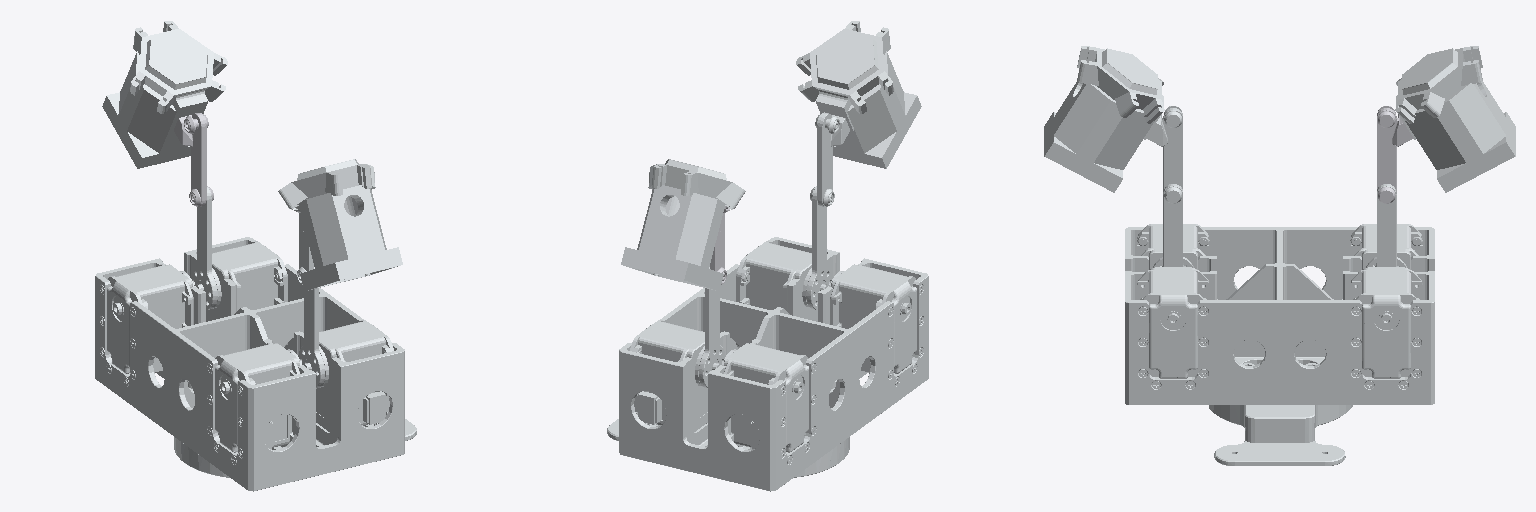
The robot description file, URDF, robot "djzq_urdf":
<?xml version="1.0" encoding="utf-8"?>
<!-- This URDF was automatically created by SolidWorks to URDF Exporter! Originally created by [author] ([email redacted]) 
     Commit Version: 1.6.0-1-g15f4949  Build Version: 1.6.7594.29634
     For more information, please see http://wiki.ros.org/sw_urdf_exporter -->
<robot
  name="djzq_urdf">
  <link
    name="base_link">
    <inertial>
      <origin
        xyz="-3.68665581099305E-06 9.14934312396757E-06 0.0286326536554218"
        rpy="0 0 0" />
      <mass
        value="0.836495323590987" />
      <inertia
        ixx="0.0010133968867622"
        ixy="-5.09925546040607E-08"
        ixz="1.18559207019959E-10"
        iyy="0.000547775576154519"
        iyz="-1.91971032593648E-10"
        izz="0.00118440225586729" />
    </inertial>
    <visual>
      <origin
        xyz="0 0 0"
        rpy="0 0 0" />
      <geometry>
        <mesh
          filename="meshes/base_link.STL" />
      </geometry>
      <material
        name="">
        <color
          rgba="0.898039215686275 0.917647058823529 0.929411764705882 1" />
      </material>
    </visual>
    <collision>
      <origin
        xyz="0 0 0"
        rpy="0 0 0" />
      <geometry>
        <mesh
          filename="meshes/base_link.STL" />
      </geometry>
    </collision>
  </link>
  <link
    name="Left_1_Link">
    <inertial>
      <origin
        xyz="0.0183900545364742 0 -0.00300000000000008"
        rpy="0 0 0" />
      <mass
        value="0.00570739398759208" />
      <inertia
        ixx="1.14086084728988E-07"
        ixy="-5.7985014611235E-22"
        ixz="-4.18483433557912E-23"
        iyy="1.94766973538297E-06"
        iyz="4.85536245073514E-24"
        izz="2.0532679152074E-06" />
    </inertial>
    <visual>
      <origin
        xyz="0 0 0"
        rpy="0 0 0" />
      <geometry>
        <mesh
          filename="meshes/Left_1_Link.STL" />
      </geometry>
      <material
        name="">
        <color
          rgba="0.898039215686275 0.917647058823529 0.929411764705882 1" />
      </material>
    </visual>
    <collision>
      <origin
        xyz="0 0 0"
        rpy="0 0 0" />
      <geometry>
        <mesh
          filename="meshes/Left_1_Link.STL" />
      </geometry>
    </collision>
  </link>
  <joint
    name="Left_1"
    type="revolute">
    <origin
      xyz="0.0014963 0.052806 0.047"
      rpy="0 -1.5708 0" />
    <parent
      link="base_link" />
    <child
      link="Left_1_Link" />
    <axis
      xyz="0 0 1" />
    <limit
      lower="-3.1416"
      upper="3.1416"
      effort="0"
      velocity="0" />
  </joint>
  <link
    name="Left_2_Link">
    <inertial>
      <origin
        xyz="0.00289936289635065 0.0248358974766605 1.84352088449656E-05"
        rpy="0 0 0" />
      <mass
        value="0.00657030740340087" />
      <inertia
        ixx="9.40189869841171E-07"
        ixy="-1.56093391665658E-07"
        ixz="-5.3466704799694E-14"
        iyy="1.77897148230384E-07"
        iyz="-2.43032697985935E-13"
        izz="1.03664567424634E-06" />
    </inertial>
    <visual>
      <origin
        xyz="0 0 0"
        rpy="0 0 0" />
      <geometry>
        <mesh
          filename="meshes/Left_2_Link.STL" />
      </geometry>
      <material
        name="">
        <color
          rgba="0.866666666666667 0.866666666666667 0.890196078431372 1" />
      </material>
    </visual>
    <collision>
      <origin
        xyz="0 0 0"
        rpy="0 0 0" />
      <geometry>
        <mesh
          filename="meshes/Left_2_Link.STL" />
      </geometry>
    </collision>
  </link>
  <joint
    name="Left_2"
    type="revolute">
    <origin
      xyz="0.05 0 0"
      rpy="3.1416 0 1.5708" />
    <parent
      link="Left_1_Link" />
    <child
      link="Left_2_Link" />
    <axis
      xyz="0 0 1" />
    <limit
      lower="-3.1416"
      upper="3.1416"
      effort="0"
      velocity="0" />
  </joint>
  <link
    name="L_TouchSensor_link">
    <inertial>
      <origin
        xyz="0.00202376595001497 -2.12603213266748E-07 -0.0264861041562324"
        rpy="0 0 0" />
      <mass
        value="0.124388957693126" />
      <inertia
        ixx="3.22977251728854E-05"
        ixy="-1.32183136100206E-14"
        ixz="8.25543029410062E-07"
        iyy="3.61487480611385E-05"
        iyz="-2.20679024877823E-13"
        izz="3.00247512991207E-05" />
    </inertial>
    <visual>
      <origin
        xyz="0 0 0"
        rpy="0 0 0" />
      <geometry>
        <mesh
          filename="meshes/L_TouchSensor_link.STL" />
      </geometry>
      <material
        name="">
        <color
          rgba="0.898039215686275 0.917647058823529 0.929411764705882 1" />
      </material>
    </visual>
    <collision>
      <origin
        xyz="0 0 0"
        rpy="0 0 0" />
      <geometry>
        <mesh
          filename="meshes/L_TouchSensor_link.STL" />
      </geometry>
    </collision>
  </link>
  <joint
    name="L_TouchSensor"
    type="fixed">
    <origin
      xyz="0.020167 0.067069 0"
      rpy="1.5708 0 -2.618" />
    <parent
      link="Left_2_Link" />
    <child
      link="L_TouchSensor_link" />
    <axis
      xyz="0 0 0" />
  </joint>
  <link
    name="Right_1_Link">
    <inertial>
      <origin
        xyz="0.0183900545364742 0 -0.00299999999999927"
        rpy="0 0 0" />
      <mass
        value="0.00570739398759207" />
      <inertia
        ixx="1.14086084728987E-07"
        ixy="-1.50374058416966E-22"
        ixz="8.29617591803157E-23"
        iyy="1.94766973538297E-06"
        iyz="-1.61022287973713E-24"
        izz="2.0532679152074E-06" />
    </inertial>
    <visual>
      <origin
        xyz="0 0 0"
        rpy="0 0 0" />
      <geometry>
        <mesh
          filename="meshes/Right_1_Link.STL" />
      </geometry>
      <material
        name="">
        <color
          rgba="0.898039215686275 0.917647058823529 0.929411764705882 1" />
      </material>
    </visual>
    <collision>
      <origin
        xyz="0 0 0"
        rpy="0 0 0" />
      <geometry>
        <mesh
          filename="meshes/Right_1_Link.STL" />
      </geometry>
    </collision>
  </link>
  <joint
    name="Right_1"
    type="revolute">
    <origin
      xyz="0.00149634448815223 -0.0527936076528706 0.047"
      rpy="0 -1.5707963267949 0" />
    <parent
      link="base_link" />
    <child
      link="Right_1_Link" />
    <axis
      xyz="0 0 1" />
    <limit
      lower="-3.1416"
      upper="3.1416"
      effort="0"
      velocity="0" />
  </joint>
  <link
    name="Right_2_Link">
    <inertial>
      <origin
        xyz="-0.00289936293533604 0.0248358974819604 1.83978616178828E-05"
        rpy="0 0 0" />
      <mass
        value="0.00657030740340088" />
      <inertia
        ixx="9.4018987076757E-07"
        ixy="1.56093395009947E-07"
        ixz="-5.34387801827842E-14"
        iyy="1.77897147303987E-07"
        iyz="2.43238111264308E-13"
        izz="1.03664567424634E-06" />
    </inertial>
    <visual>
      <origin
        xyz="0 0 0"
        rpy="0 0 0" />
      <geometry>
        <mesh
          filename="meshes/Right_2_Link.STL" />
      </geometry>
      <material
        name="">
        <color
          rgba="0.898039215686275 0.917647058823529 0.929411764705882 1" />
      </material>
    </visual>
    <collision>
      <origin
        xyz="0 0 0"
        rpy="0 0 0" />
      <geometry>
        <mesh
          filename="meshes/Right_2_Link.STL" />
      </geometry>
    </collision>
  </link>
  <joint
    name="Right_2"
    type="revolute">
    <origin
      xyz="0.0499999999999749 0 0"
      rpy="3.14159265358979 0 1.5707963267949" />
    <parent
      link="Right_1_Link" />
    <child
      link="Right_2_Link" />
    <axis
      xyz="0 0 1" />
    <limit
      lower="-3.1416"
      upper="3.1416"
      effort="0"
      velocity="0" />
  </joint>
  <link
    name="R_TouchSensor_link">
    <inertial>
      <origin
        xyz="-0.00202376595001491 2.12603213266098E-07 -0.0264861041562325"
        rpy="0 0 0" />
      <mass
        value="0.124388957693126" />
      <inertia
        ixx="3.22977251728855E-05"
        ixy="-1.3218319761948E-14"
        ixz="-8.25543029410075E-07"
        iyy="3.61487480611386E-05"
        iyz="2.20679027662246E-13"
        izz="3.00247512991208E-05" />
    </inertial>
    <visual>
      <origin
        xyz="0 0 0"
        rpy="0 0 0" />
      <geometry>
        <mesh
          filename="meshes/R_TouchSensor_link.STL" />
      </geometry>
      <material
        name="">
        <color
          rgba="0.898039215686275 0.917647058823529 0.929411764705882 1" />
      </material>
    </visual>
    <collision>
      <origin
        xyz="0 0 0"
        rpy="0 0 0" />
      <geometry>
        <mesh
          filename="meshes/R_TouchSensor_link.STL" />
      </geometry>
    </collision>
  </link>
  <joint
    name="R_TouchSensor"
    type="fixed">
    <origin
      xyz="-0.020167 0.067069 0"
      rpy="1.5708 0 2.618" />
    <parent
      link="Right_2_Link" />
    <child
      link="R_TouchSensor_link" />
    <axis
      xyz="0 0 0" />
  </joint>
  <link
    name="flange_link">
    <inertial>
      <origin
        xyz="-0.00114365097952029 0.0135377001943252 0.00701515049914394"
        rpy="0 0 0" />
      <mass
        value="0.173721942494818" />
      <inertia
        ixx="0.000156340931376305"
        ixy="-2.68963681691285E-06"
        ixz="-3.7653007847273E-07"
        iyy="5.56495647798096E-05"
        iyz="1.50032581410105E-06"
        izz="0.000204361122694957" />
    </inertial>
    <visual>
      <origin
        xyz="0 0 0"
        rpy="0 0 0" />
      <geometry>
        <mesh
          filename="meshes/flange_link.STL" />
      </geometry>
      <material
        name="">
        <color
          rgba="0.898039215686275 0.917647058823529 0.929411764705882 1" />
      </material>
    </visual>
    <collision>
      <origin
        xyz="0 0 0"
        rpy="0 0 0" />
      <geometry>
        <mesh
          filename="meshes/flange_link.STL" />
      </geometry>
    </collision>
  </link>
  <joint
    name="flange"
    type="fixed">
    <origin
      xyz="0 0 -0.017"
      rpy="0 0 -1.5708" />
    <parent
      link="base_link" />
    <child
      link="flange_link" />
    <axis
      xyz="0 0 0" />
  </joint>
</robot>

--- Facts derived from the render (not from the file) ---
Views: 3 orthographic renders of the robot side by side, from view 1: azimuth 30°, elevation 25°; view 2: azimuth 150°, elevation 25°; view 3: azimuth 270°, elevation 25°.
Model djzq_urdf with 8 links and 7 joints (4 revolute, 3 fixed), rooted at base_link, posed every joint at zero.
Links seen in each view (by area): view 1: base_link, L_TouchSensor_link, R_TouchSensor_link, Left_2_Link, Left_1_Link, Right_1_Link, flange_link, Right_2_Link; view 2: base_link, R_TouchSensor_link, L_TouchSensor_link, Right_2_Link, Right_1_Link, Left_1_Link, flange_link, Left_2_Link; view 3: base_link, L_TouchSensor_link, R_TouchSensor_link, flange_link, Left_2_Link, Right_2_Link, Left_1_Link, Right_1_Link.
Boxes of the visible links, <box> form: base_link: <box>95,237,404,491</box>; L_TouchSensor_link: <box>102,21,227,168</box>; R_TouchSensor_link: <box>278,159,402,290</box>; Left_2_Link: <box>174,113,213,206</box>; Left_1_Link: <box>191,187,217,309</box>; Right_1_Link: <box>298,267,324,388</box>; flange_link: <box>174,419,416,477</box>; Right_2_Link: <box>294,206,313,284</box>; base_link: <box>619,237,928,491</box>; R_TouchSensor_link: <box>796,21,921,168</box>; L_TouchSensor_link: <box>621,159,745,290</box>; Right_2_Link: <box>810,112,849,206</box>; Right_1_Link: <box>806,187,832,309</box>; Left_1_Link: <box>699,267,725,388</box>; flange_link: <box>607,419,849,477</box>; Left_2_Link: <box>710,206,729,284</box>; base_link: <box>1125,224,1434,404</box>; L_TouchSensor_link: <box>1395,46,1515,192</box>; R_TouchSensor_link: <box>1044,46,1164,192</box>; flange_link: <box>1209,405,1352,465</box>; Left_2_Link: <box>1377,106,1413,203</box>; Right_2_Link: <box>1146,106,1182,203</box>; Left_1_Link: <box>1375,184,1397,266</box>; Right_1_Link: <box>1162,184,1184,266</box>.
Size in the robot's own frame: 0.1258 by 0.2333 by 0.193 metres.
8 mesh visuals loaded from 8 distinct referenced files (8 binary STL).
